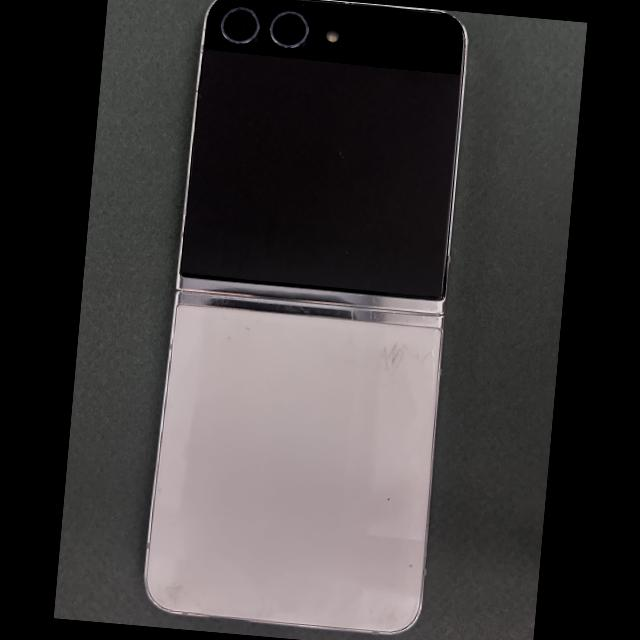lens: (270, 10, 309, 49), (222, 6, 260, 45)
phone: (143, 0, 469, 635)
